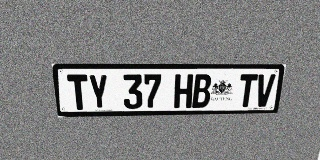3: (123, 74, 142, 109)
7: (143, 74, 161, 109)
B: (192, 74, 212, 108)
H: (174, 74, 193, 108)
T: (67, 74, 90, 110), (237, 74, 258, 107)
V: (254, 74, 276, 107)
Y: (88, 74, 109, 110)
